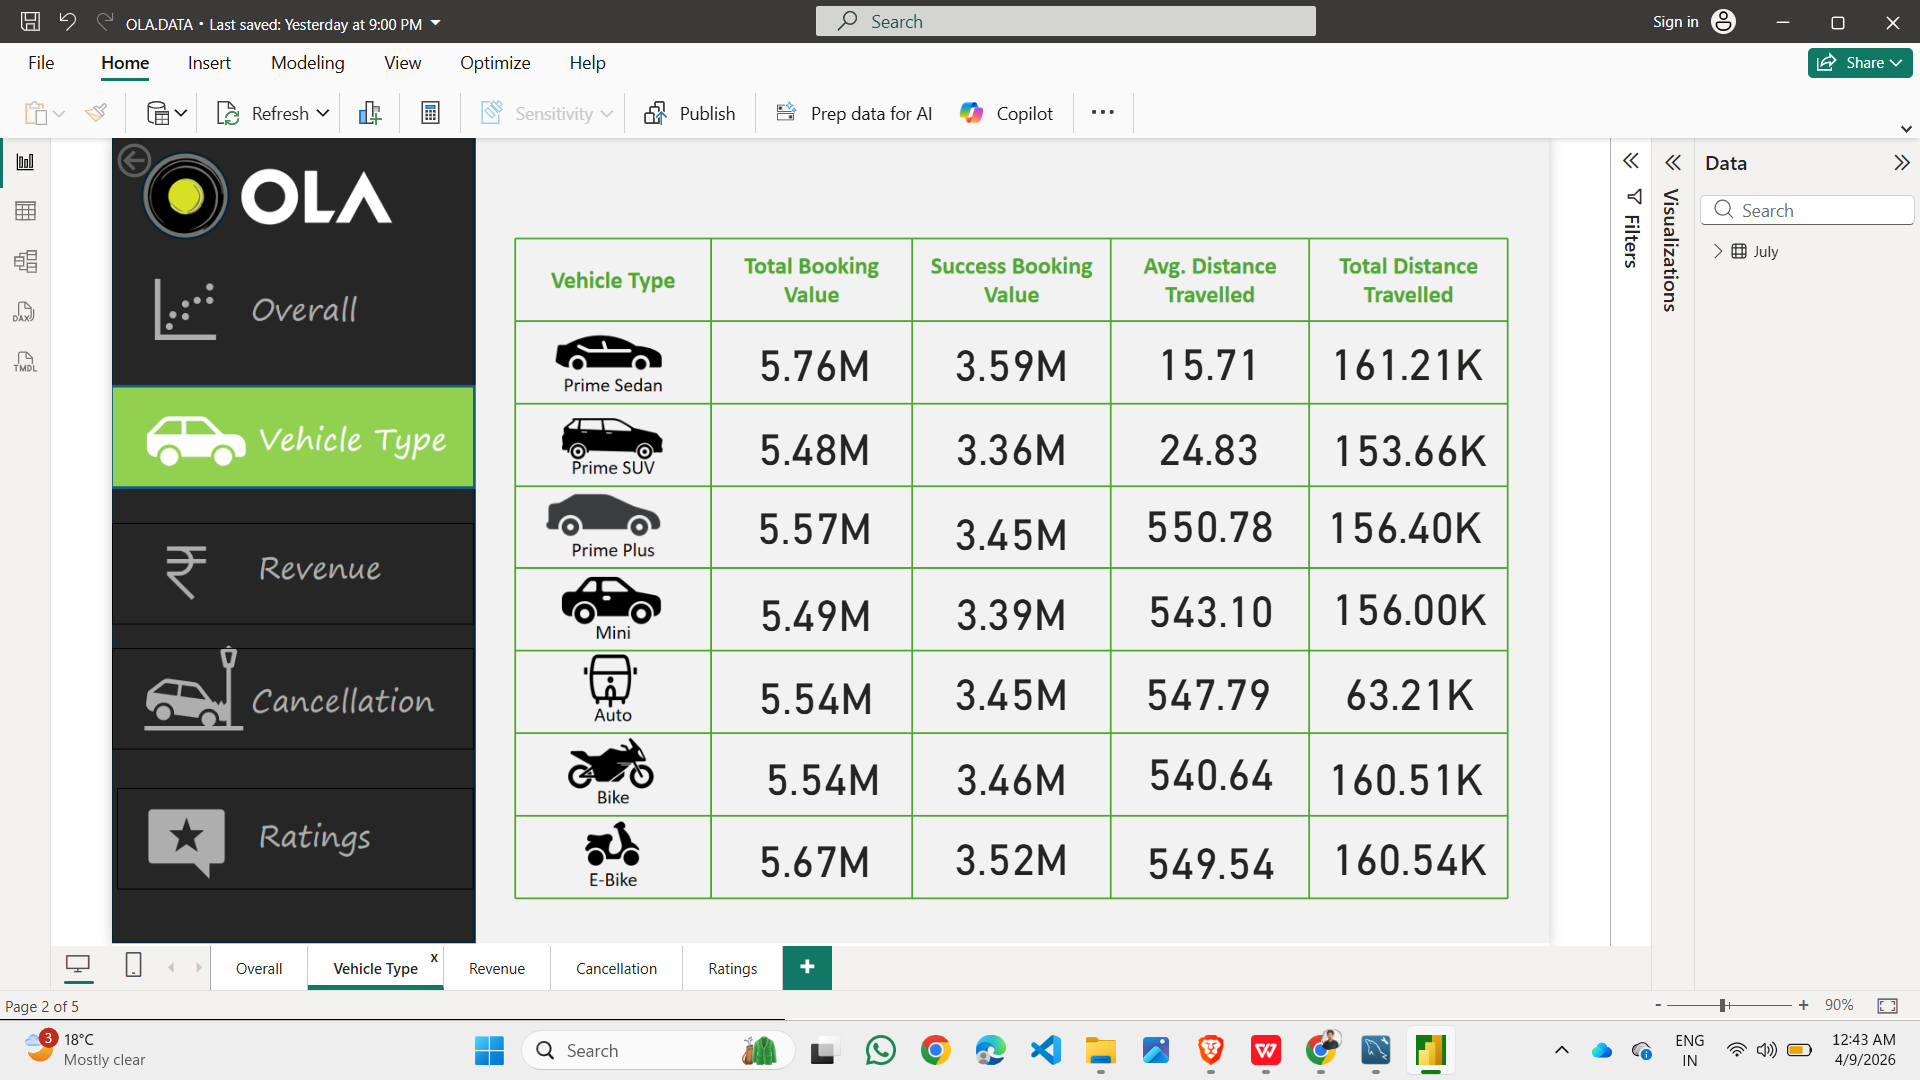

The page's visual inventory and layout, read from the dashboard file:
{"tool":"powerbi","page":{"name":"Vehicle Type","canvas":[1280,720],"ordinal":1},"visuals":[{"type":"actionButton","box":[0,222.2,322.2,90],"z":0},{"type":"actionButton","box":[0,343.3,322.2,90],"z":1000},{"type":"actionButton","box":[0,454.4,322.2,90],"z":2000},{"type":"actionButton","box":[0,115.6,322.2,90],"z":3000},{"type":"actionButton","box":[4.4,578.9,317.8,90],"z":4000},{"type":"card","fields":{"Values":["Sum(July.Booking_Value)"]},"box":[538,161,175,76],"z":5000},{"type":"card","fields":{"Values":["Sum(July.Booking_Value)"]},"box":[538,236,175,76],"z":6000},{"type":"card","fields":{"Values":["Sum(July.Booking_Value)"]},"box":[538,312,175,66],"z":7000},{"type":"card","fields":{"Values":["Sum(July.Booking_Value)"]},"box":[545,388,161,66],"z":8000},{"type":"card","fields":{"Values":["Sum(July.Booking_Value)"]},"box":[551,462,151,68],"z":9000},{"type":"card","fields":{"Values":["Sum(July.Booking_Value)"]},"box":[552,530,161,76],"z":10000},{"type":"card","fields":{"Values":["Sum(July.Booking_Value)"]},"box":[538,606,175,71],"z":11000},{"type":"card","fields":{"Values":["Sum(July.Booking_Value)"]},"box":[713,161,175,76],"z":12000},{"type":"card","fields":{"Values":["Sum(July.Booking_Value)"]},"box":[714,236,175,76],"z":13000},{"type":"card","fields":{"Values":["Sum(July.Booking_Value)"]},"box":[714,312,175,76],"z":14000},{"type":"card","fields":{"Values":["Sum(July.Booking_Value)"]},"box":[714,383,175,76],"z":15000},{"type":"card","fields":{"Values":["Sum(July.Booking_Value)"]},"box":[714,454,175,76],"z":16000},{"type":"card","fields":{"Values":["Sum(July.Booking_Value)"]},"box":[714,530,175,76],"z":17000},{"type":"card","fields":{"Values":["Sum(July.Booking_Value)"]},"box":[713,601,175,76],"z":18000},{"type":"card","fields":{"Values":["Avg(July.Ride_Distance)"]},"box":[889,160,175,76],"z":19000},{"type":"card","fields":{"Values":["Avg(July.Ride_Distance)"]},"box":[889,236,175,76],"z":20000},{"type":"card","fields":{"Values":["Avg(July.Booking_Value)"]},"box":[889,305,175,76],"z":21000},{"type":"card","fields":{"Values":["Avg(July.Booking_Value)"]},"box":[890,381,175,76],"z":22000},{"type":"card","fields":{"Values":["Avg(July.Booking_Value)"]},"box":[888,454,175,76],"z":23000},{"type":"card","fields":{"Values":["Avg(July.Booking_Value)"]},"box":[890,525,175,76],"z":24000},{"type":"card","fields":{"Values":["Avg(July.Booking_Value)"]},"box":[891,604,175,76],"z":25000},{"type":"actionButton","box":[0,0,100,40],"z":26000},{"type":"card","fields":{"Values":["Sum(July.Ride_Distance)"]},"box":[1065.7,160,175.7,75.7],"z":27000},{"type":"card","fields":{"Values":["Sum(July.Ride_Distance)"]},"box":[1067.1,237.1,175.7,75.7],"z":28000},{"type":"card","fields":{"Values":["Sum(July.Ride_Distance)"]},"box":[1062.9,305.7,175.7,75.7],"z":29000},{"type":"card","fields":{"Values":["Sum(July.Ride_Distance)"]},"box":[1067.1,378.6,175.7,75.7],"z":30000},{"type":"card","fields":{"Values":["Sum(July.Ride_Distance)"]},"box":[1067.1,454.3,175.7,75.7],"z":31000},{"type":"card","fields":{"Values":["Sum(July.Ride_Distance)"]},"box":[1064.3,530,175.7,75.7],"z":32000},{"type":"card","fields":{"Values":["Sum(July.Ride_Distance)"]},"box":[1067.1,601.4,175.7,75.7],"z":33000}]}

Visuals, with their boxes on the page's 1280x720 design canvas (x1, y1, x2, y2). These are canvas units, not pixel positions in the 1920x1080 screenshot, which may show the page scaled, cropped or inside an application window:
actionButton: {"x1": 0, "y1": 222, "x2": 322, "y2": 312}
actionButton: {"x1": 0, "y1": 343, "x2": 322, "y2": 433}
actionButton: {"x1": 0, "y1": 454, "x2": 322, "y2": 544}
actionButton: {"x1": 0, "y1": 116, "x2": 322, "y2": 206}
actionButton: {"x1": 4, "y1": 579, "x2": 322, "y2": 669}
card - Sum(July.Booking_Value): {"x1": 538, "y1": 161, "x2": 713, "y2": 237}
card - Sum(July.Booking_Value): {"x1": 538, "y1": 236, "x2": 713, "y2": 312}
card - Sum(July.Booking_Value): {"x1": 538, "y1": 312, "x2": 713, "y2": 378}
card - Sum(July.Booking_Value): {"x1": 545, "y1": 388, "x2": 706, "y2": 454}
card - Sum(July.Booking_Value): {"x1": 551, "y1": 462, "x2": 702, "y2": 530}
card - Sum(July.Booking_Value): {"x1": 552, "y1": 530, "x2": 713, "y2": 606}
card - Sum(July.Booking_Value): {"x1": 538, "y1": 606, "x2": 713, "y2": 677}
card - Sum(July.Booking_Value): {"x1": 713, "y1": 161, "x2": 888, "y2": 237}
card - Sum(July.Booking_Value): {"x1": 714, "y1": 236, "x2": 889, "y2": 312}
card - Sum(July.Booking_Value): {"x1": 714, "y1": 312, "x2": 889, "y2": 388}
card - Sum(July.Booking_Value): {"x1": 714, "y1": 383, "x2": 889, "y2": 459}
card - Sum(July.Booking_Value): {"x1": 714, "y1": 454, "x2": 889, "y2": 530}
card - Sum(July.Booking_Value): {"x1": 714, "y1": 530, "x2": 889, "y2": 606}
card - Sum(July.Booking_Value): {"x1": 713, "y1": 601, "x2": 888, "y2": 677}
card - Avg(July.Ride_Distance): {"x1": 889, "y1": 160, "x2": 1064, "y2": 236}
card - Avg(July.Ride_Distance): {"x1": 889, "y1": 236, "x2": 1064, "y2": 312}
card - Avg(July.Booking_Value): {"x1": 889, "y1": 305, "x2": 1064, "y2": 381}
card - Avg(July.Booking_Value): {"x1": 890, "y1": 381, "x2": 1065, "y2": 457}
card - Avg(July.Booking_Value): {"x1": 888, "y1": 454, "x2": 1063, "y2": 530}
card - Avg(July.Booking_Value): {"x1": 890, "y1": 525, "x2": 1065, "y2": 601}
card - Avg(July.Booking_Value): {"x1": 891, "y1": 604, "x2": 1066, "y2": 680}
actionButton: {"x1": 0, "y1": 0, "x2": 100, "y2": 40}
card - Sum(July.Ride_Distance): {"x1": 1066, "y1": 160, "x2": 1241, "y2": 236}
card - Sum(July.Ride_Distance): {"x1": 1067, "y1": 237, "x2": 1243, "y2": 313}
card - Sum(July.Ride_Distance): {"x1": 1063, "y1": 306, "x2": 1239, "y2": 381}
card - Sum(July.Ride_Distance): {"x1": 1067, "y1": 379, "x2": 1243, "y2": 454}
card - Sum(July.Ride_Distance): {"x1": 1067, "y1": 454, "x2": 1243, "y2": 530}
card - Sum(July.Ride_Distance): {"x1": 1064, "y1": 530, "x2": 1240, "y2": 606}
card - Sum(July.Ride_Distance): {"x1": 1067, "y1": 601, "x2": 1243, "y2": 677}
